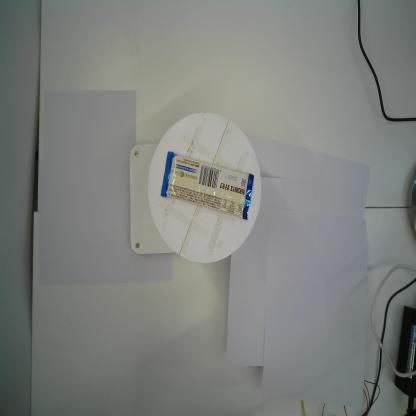Chocolate: (160, 150, 255, 222)
